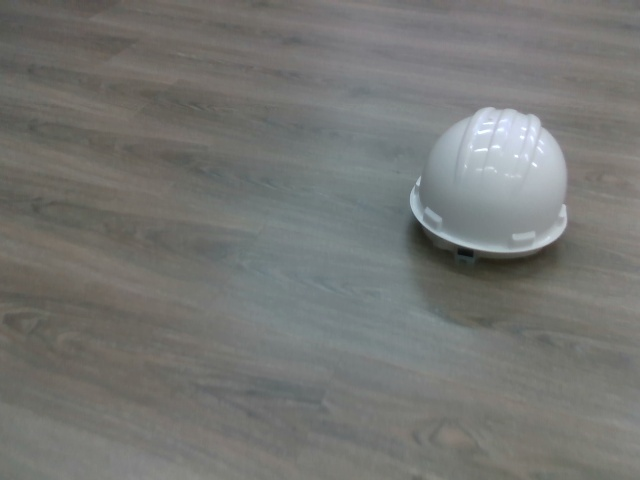helmet: (406, 100, 581, 271)
